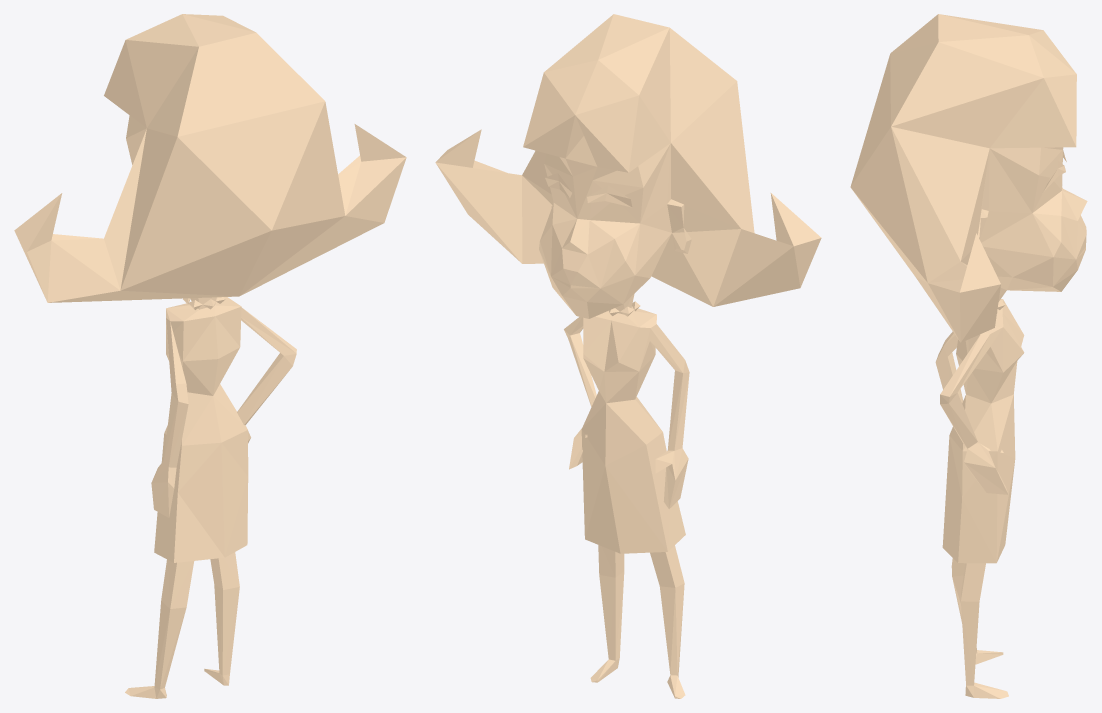
The model's file is judystop.glb.
3 views of the same model, side by side, from view 1: azimuth 30°, elevation 25°; view 2: azimuth 150°, elevation 25°; view 3: azimuth 270°, elevation 25° (orthographic). The views are drawn at different scales.
Visible parts, largest first — view 1: judystop; view 2: judystop; view 3: judystop.
Boxes of the visible parts, x1,y1,x2,y2 form: judystop: [14, 14, 406, 698]; judystop: [435, 14, 821, 698]; judystop: [850, 14, 1087, 698].
Bounding box in the file's own units: 169 × 278 × 90.4.
